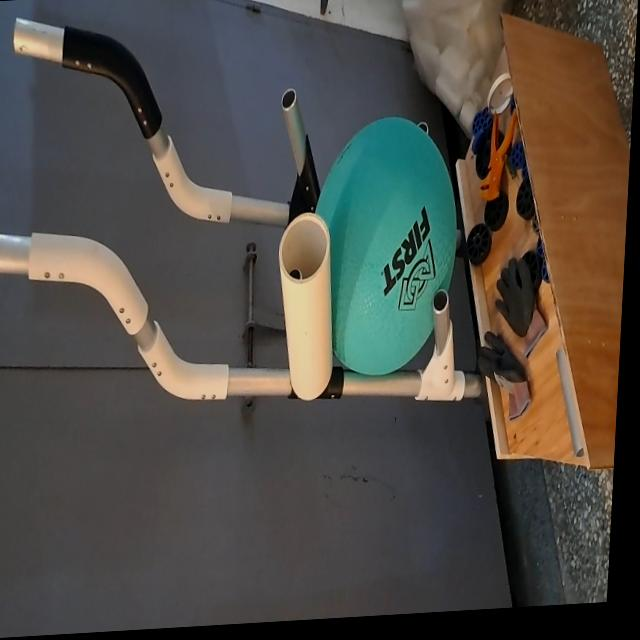ALGAE: (302, 102, 466, 379)
CORAL: (266, 206, 346, 404)
